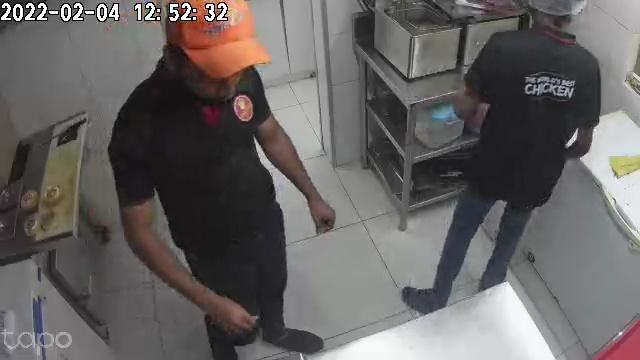no_gloves: (302, 186, 335, 232)
